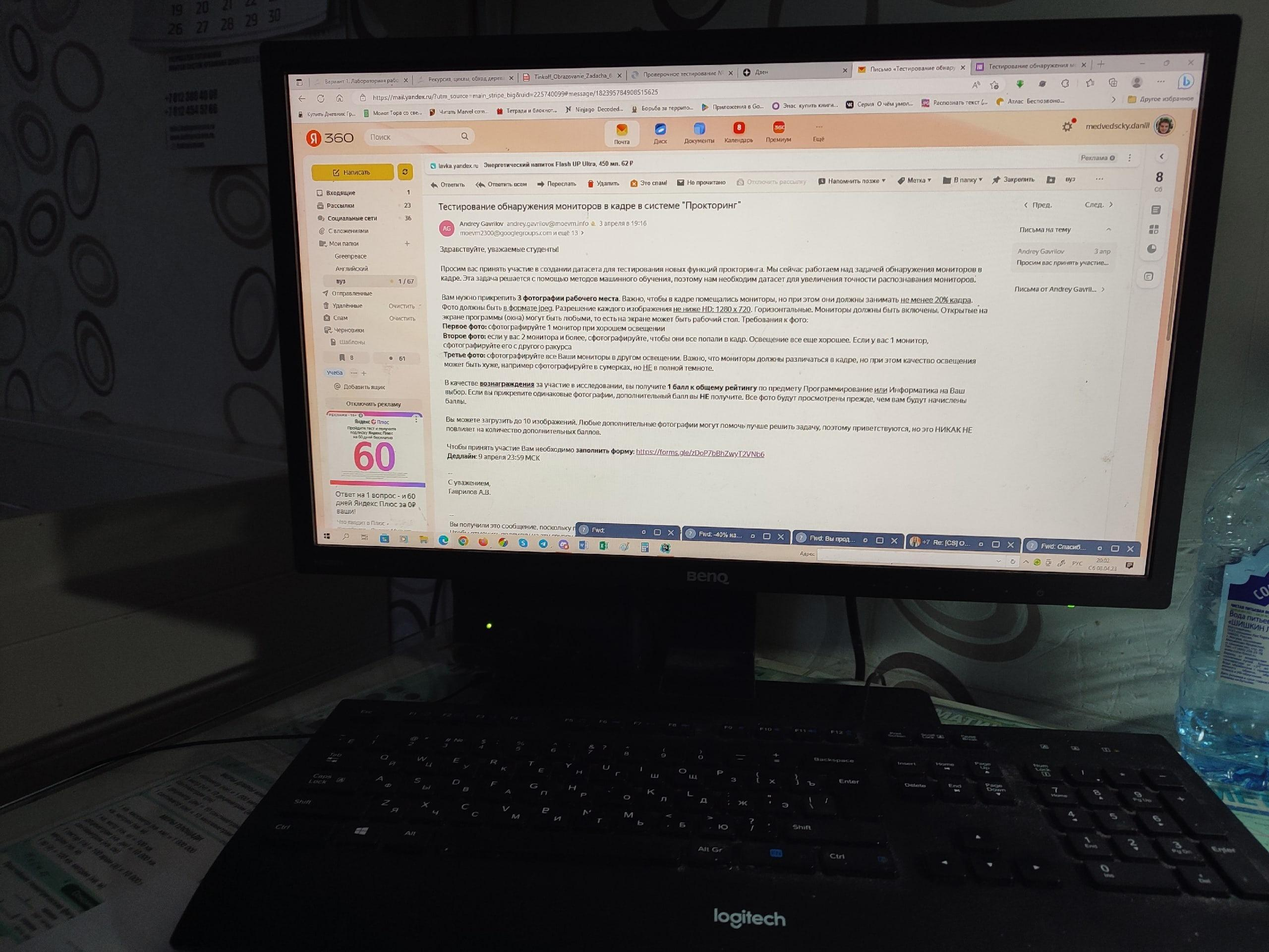monitor: (251, 7, 1238, 620)
